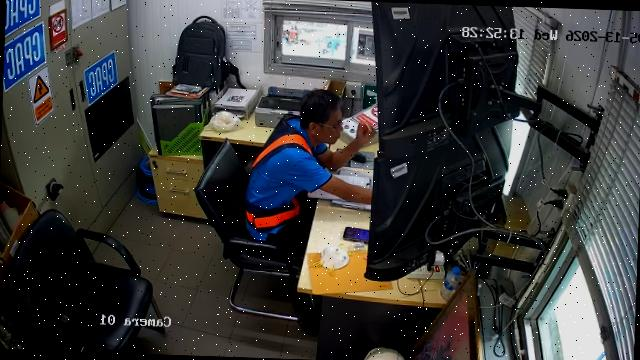Head: (299, 90, 343, 147)
People: (246, 91, 376, 265)
Phone: (342, 227, 369, 243)
